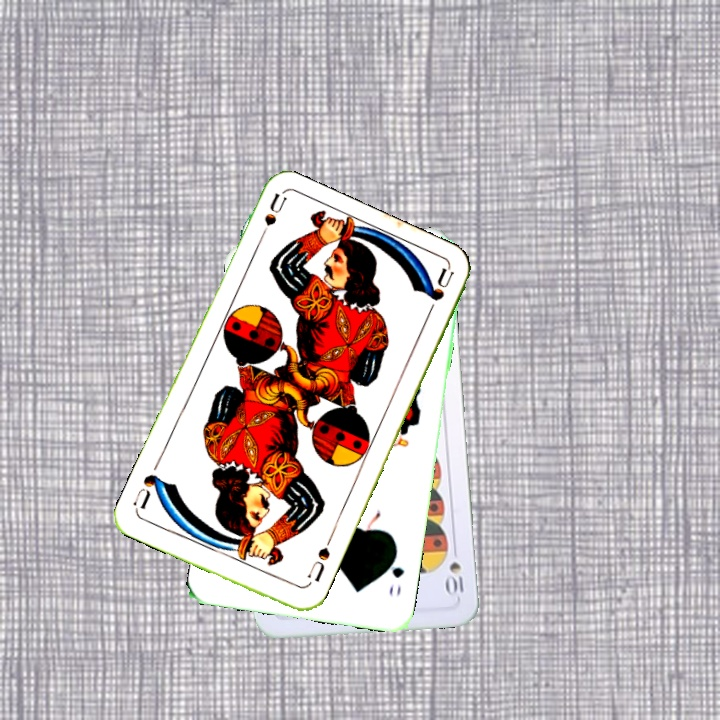GO: (384, 547, 407, 599)
S10: (444, 541, 466, 600)
SU: (253, 191, 289, 248), (303, 543, 333, 585)
